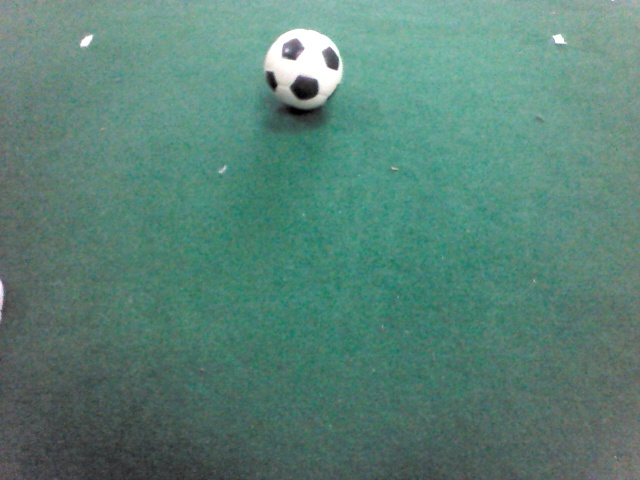ball: (262, 27, 345, 113)
